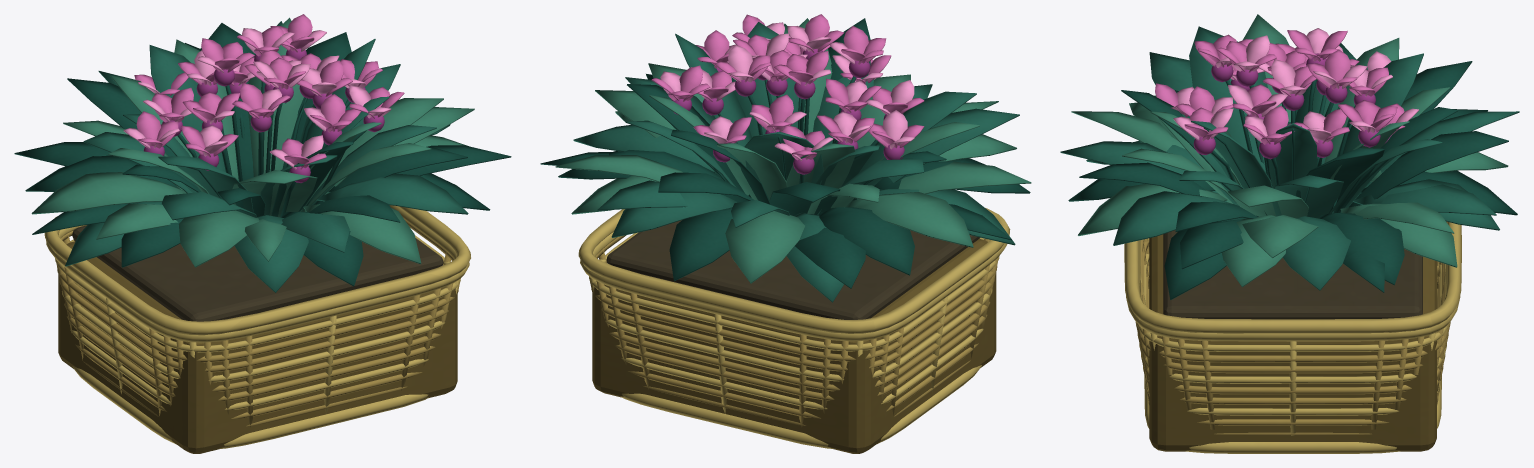
The model's file is 02_Flower_Basket.fbx.
The picture shows the model from 3 angles, left to right: view 1: azimuth 30°, elevation 25°; view 2: azimuth 150°, elevation 25°; view 3: azimuth 270°, elevation 25°; orthographic projection. The views are drawn at different scales.
Parts seen in each view (by area): view 1: 02_Flower_Basket_Mesh; view 2: 02_Flower_Basket_Mesh; view 3: 02_Flower_Basket_Mesh.
Part boxes in pixels (left/top/right/bottom): 02_Flower_Basket_Mesh: left=14, top=14, right=511, bottom=453; 02_Flower_Basket_Mesh: left=540, top=14, right=1031, bottom=453; 02_Flower_Basket_Mesh: left=1060, top=14, right=1519, bottom=453.
Size of the model in its own units: 27.57 by 20.29 by 24.59.
Materials: 1 (1 with a texture image).
